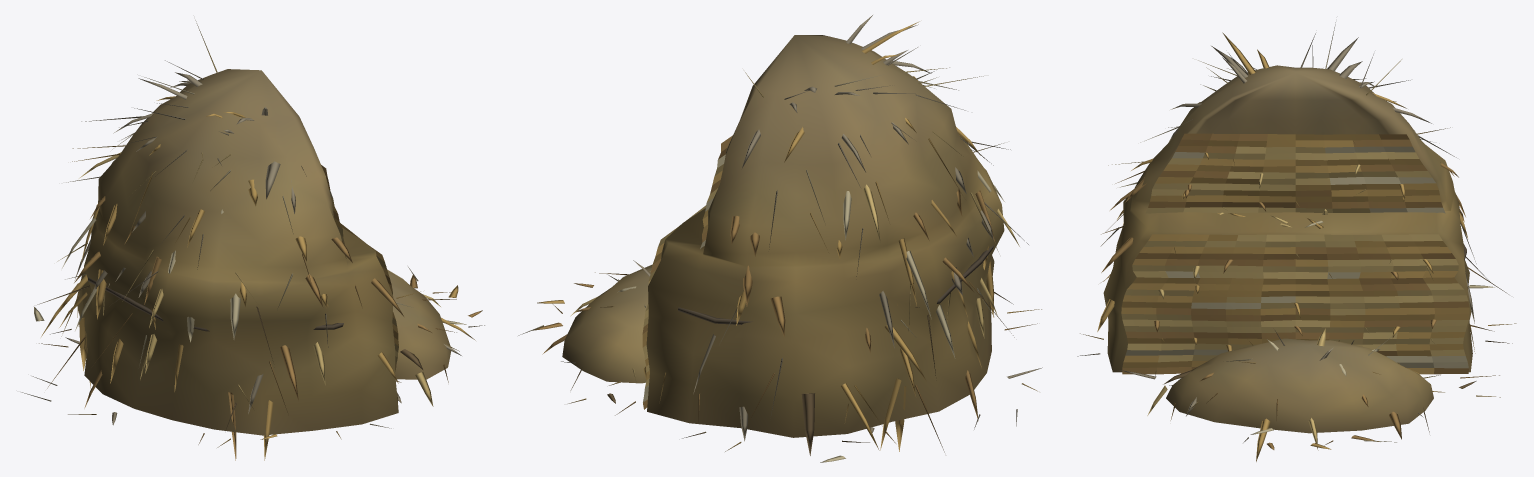
File: haystack_half_v2.glb
3 renders of one model, left to right at view 1: azimuth 30°, elevation 25°; view 2: azimuth 150°, elevation 25°; view 3: azimuth 270°, elevation 25°, orthographic. The views are drawn at different scales.
Visible parts, largest first — view 1: hb_thatch; view 2: hb_thatch; view 3: hb_thatch.
Part boxes in pixels (left/top/right/bottom): hb_thatch: left=21, top=20, right=484, bottom=460; hb_thatch: left=518, top=15, right=1042, bottom=462; hb_thatch: left=1077, top=22, right=1516, bottom=461.
Bounding box in the file's own units: 5.6 × 4.07 × 5.03.
